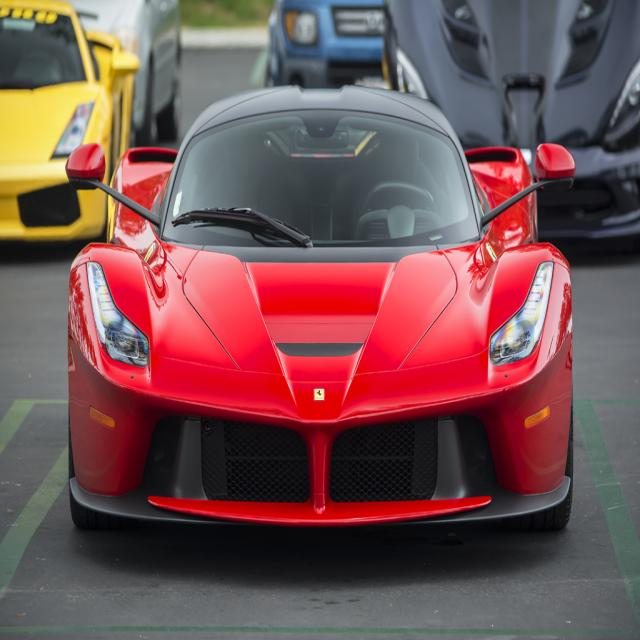car: (62, 81, 584, 532)
